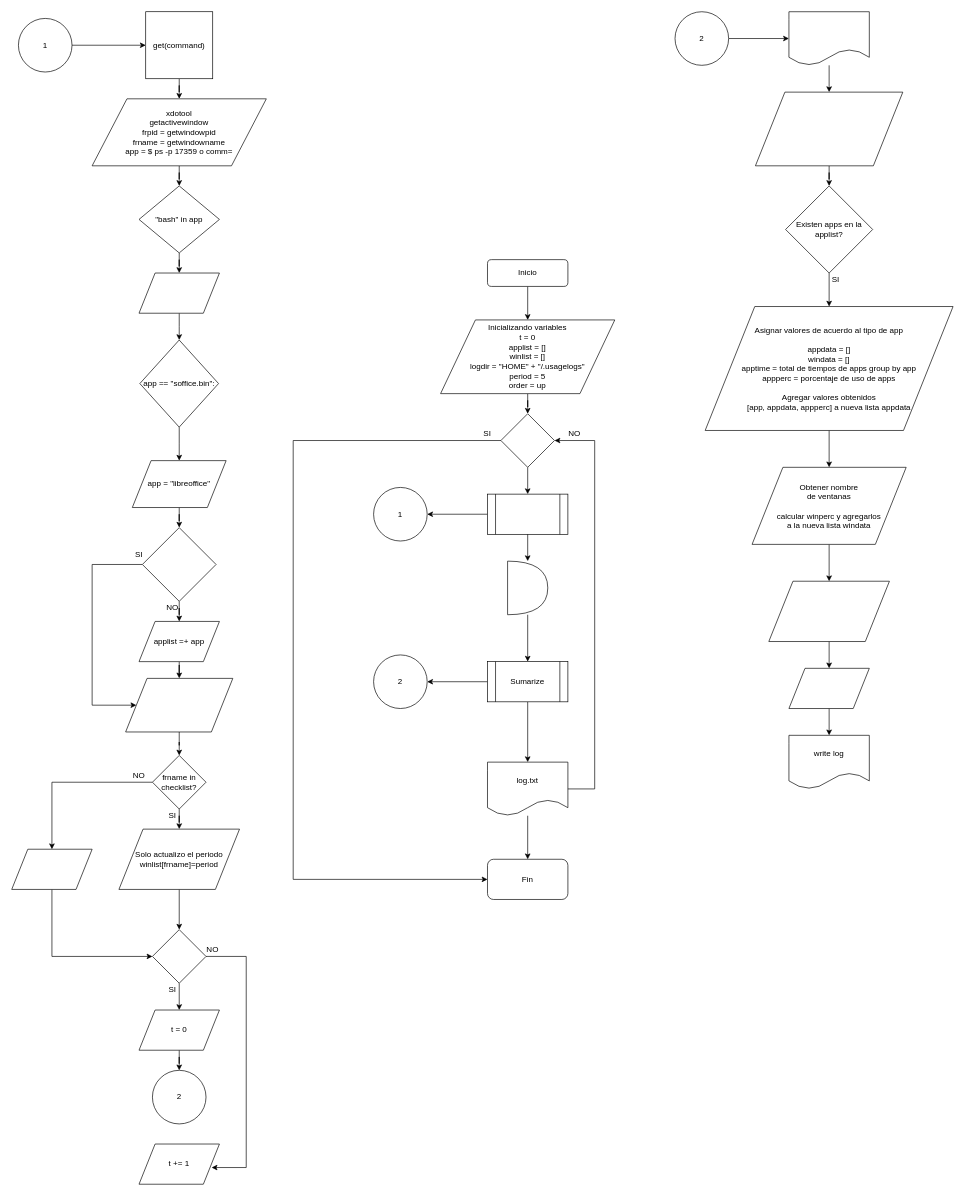
The diagram is 965 pixels wide and 1196 high, and some of its shapes have lost their labels. Each missing label, with the centre of its shape:
Actualizar listas windata > appdata > alldata: point 828,611
app = "gnome-terminal-bash": point 178,292
app in applist?: point 179,564
checklist = winlist[1]: point 179,705
Formatear reporte: point 828,688
Inicializar variables Totaltime = winlist[2].sum alldata = []: point 829,128
Interrupción por el usuario: point 527,440
Obteniendo: appName winName Tiempo de uso: point 527,513
Open log: point 828,38
Pasarón 5 seg?: point 179,956
Sleep(5): point 527,587
winlist =+[app, frname, period]: point 51,869
